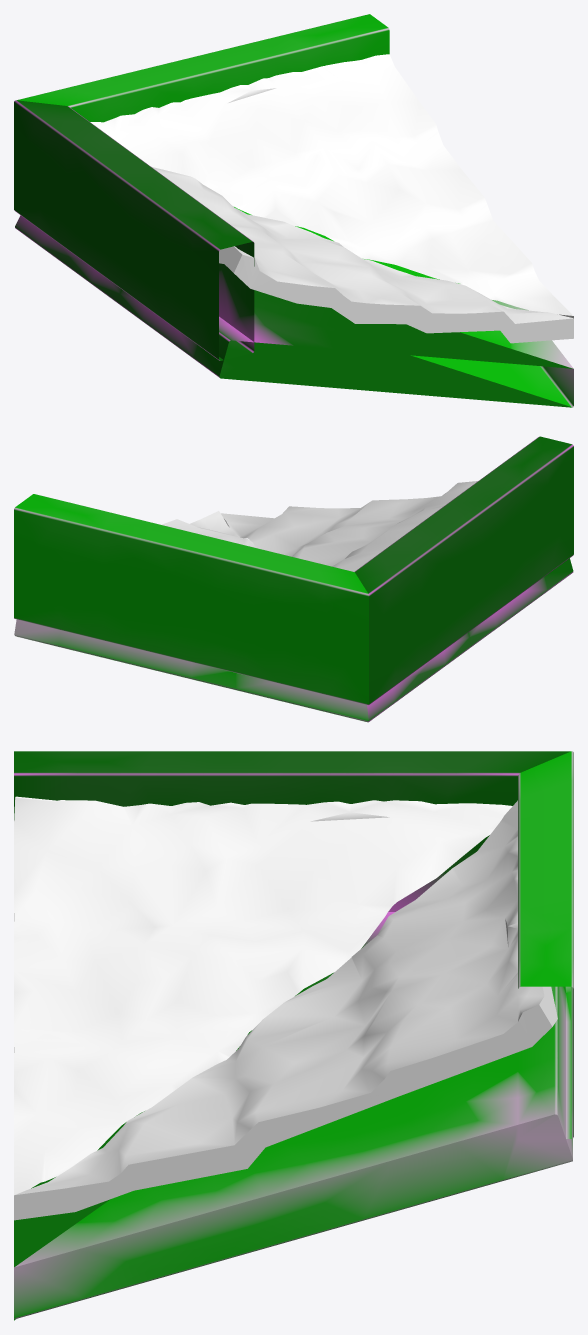
The model's file is wall_roof_fenced_inner_corner_01.fbx.
The picture shows the model from 3 angles, top to bottom: view 1: azimuth 30°, elevation 25°; view 2: azimuth 150°, elevation 25°; view 3: azimuth 270°, elevation 25°; orthographic projection. The views are drawn at different scales.
Visible parts, largest first — view 1: wall_roof_fenced_inner_corner_01; view 2: wall_roof_fenced_inner_corner_01; view 3: wall_roof_fenced_inner_corner_01.
Boxes of the visible parts, <box> form: wall_roof_fenced_inner_corner_01: <box>14,14,573,407</box>; wall_roof_fenced_inner_corner_01: <box>14,436,573,722</box>; wall_roof_fenced_inner_corner_01: <box>14,751,573,1320</box>.
Size of the model in its own units: 1 by 0.6579 by 1.
